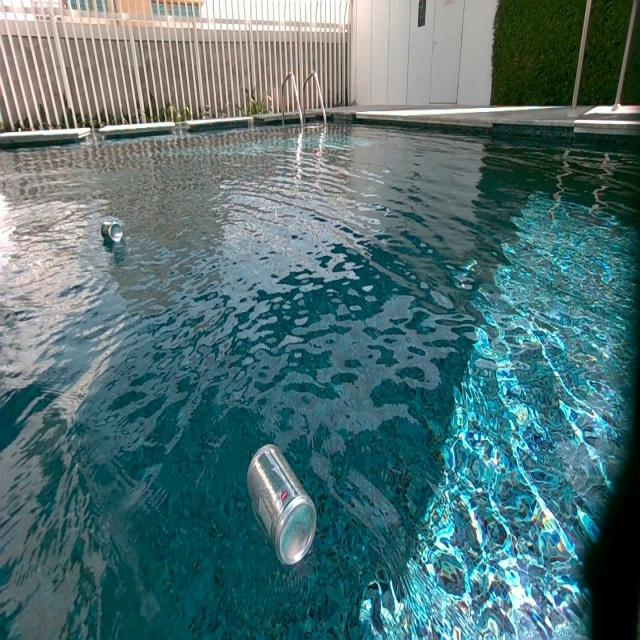Cans: (248, 444, 320, 568), (101, 220, 123, 246)
